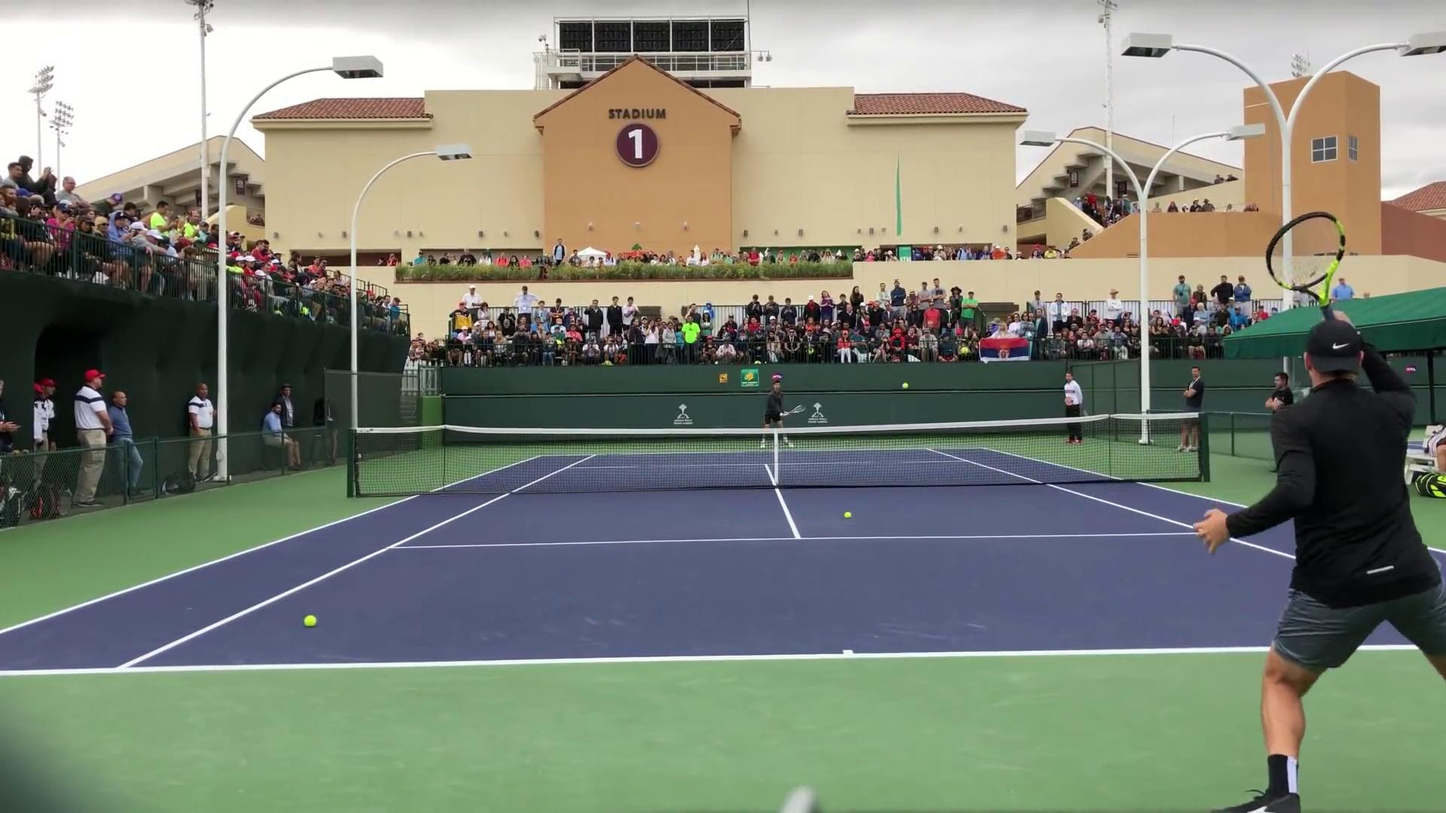ball: (304, 614, 316, 627), (844, 512, 852, 519), (901, 383, 906, 390)
